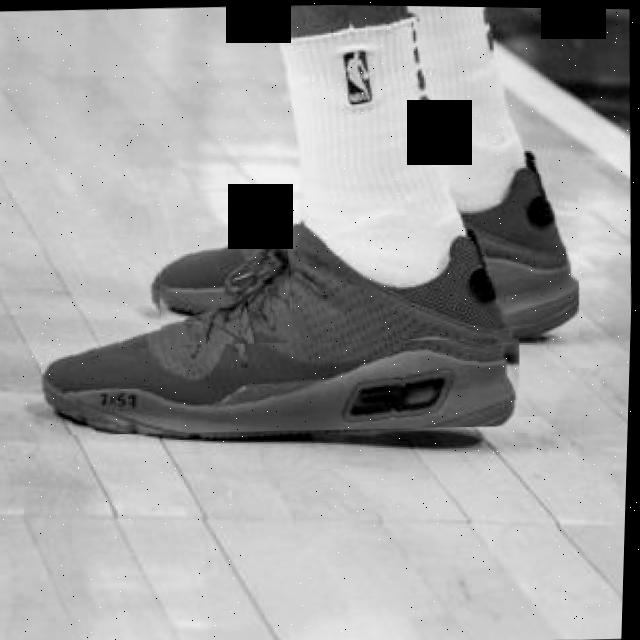shoe: (36, 202, 529, 441), (151, 145, 585, 349)
